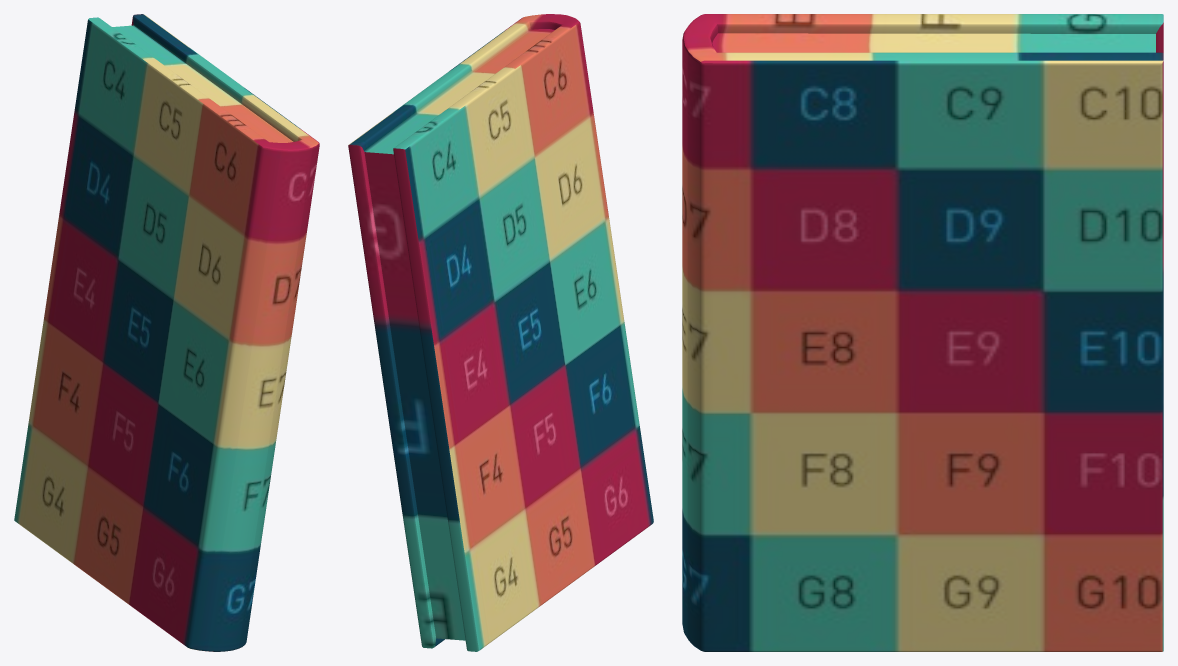
Rendered from book1.fbx.
The picture shows the model from 3 angles, left to right: view 1: azimuth 30°, elevation 25°; view 2: azimuth 150°, elevation 25°; view 3: azimuth 270°, elevation 25°; orthographic projection. The views are drawn at different scales.
Visible parts, largest first — view 1: polySurface440; view 2: polySurface440; view 3: polySurface440.
Part boxes in pixels (left/top/right/bottom): polySurface440: left=14, top=14, right=319, bottom=651; polySurface440: left=348, top=14, right=653, bottom=651; polySurface440: left=682, top=14, right=1163, bottom=651.
Size of the model in its own units: 5.84 by 20.9 by 14.02.
